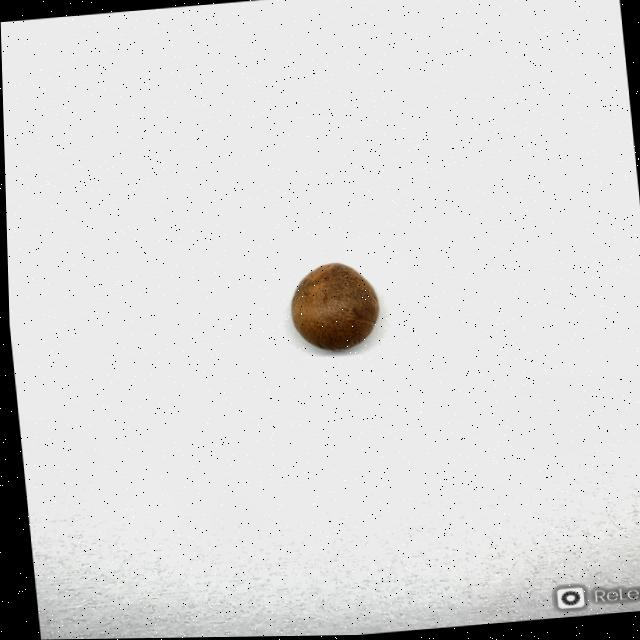Good bean: (283, 259, 381, 355)
